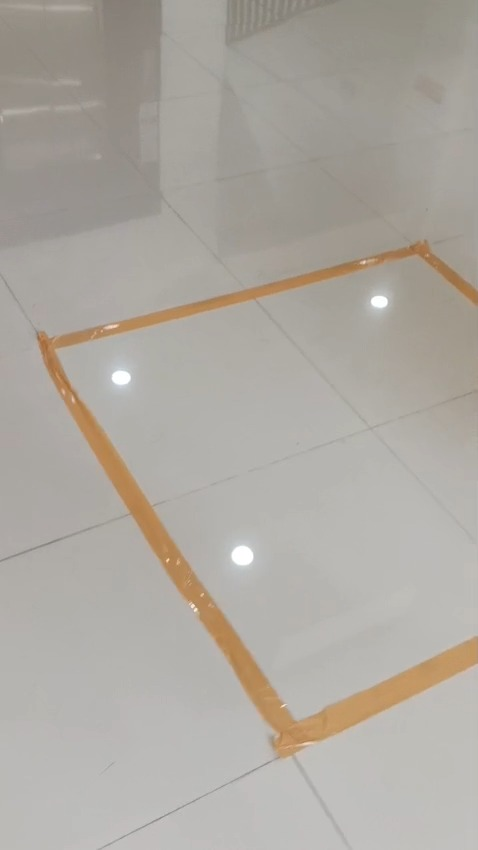floor marking: (38, 242, 477, 756)
